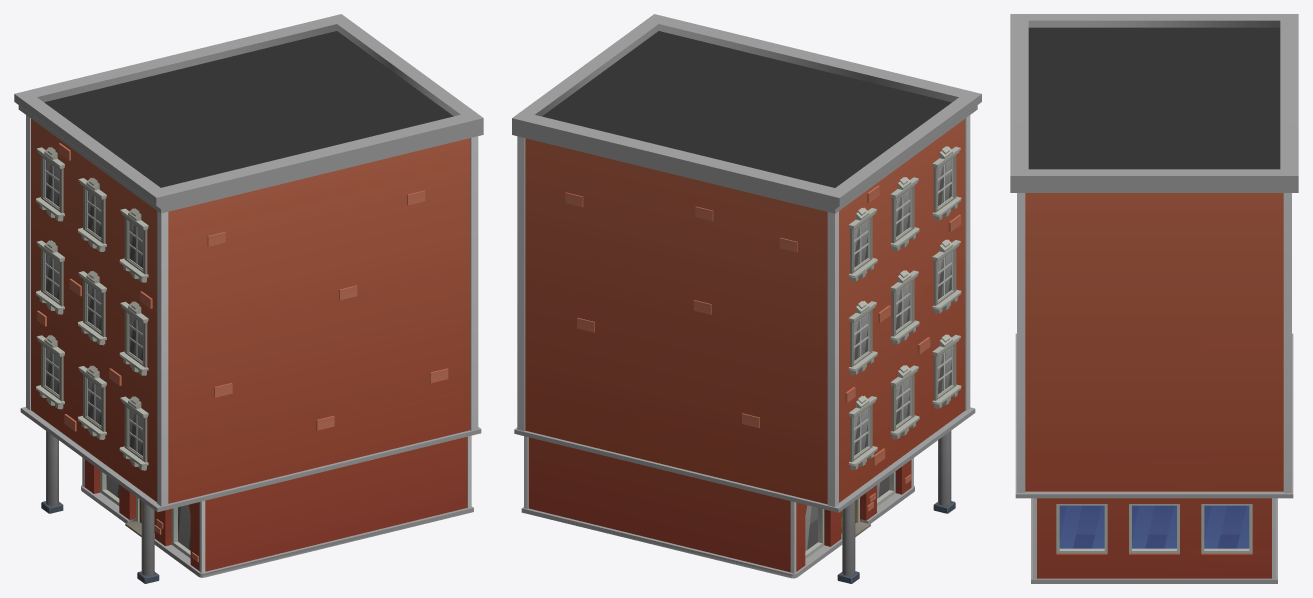
The model's file is Building_4_B.fbx.
3 views of the same model, side by side, from view 1: azimuth 30°, elevation 25°; view 2: azimuth 150°, elevation 25°; view 3: azimuth 270°, elevation 25° (orthographic).
Parts seen in each view (by area): view 1: Building_4_B; view 2: Building_4_B; view 3: Building_4_B.
Part boxes in pixels (box(x1,y1,x2,y2)): Building_4_B: box(14, 14, 483, 583); Building_4_B: box(512, 14, 981, 583); Building_4_B: box(1010, 14, 1298, 583).
Bounding box in the file's own units: 1585 × 1855 × 1191.
